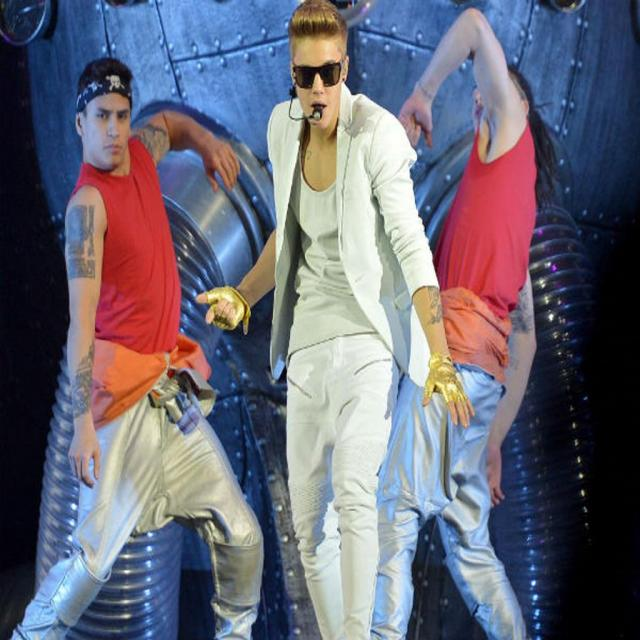nomask: (291, 38, 345, 138), (89, 86, 129, 172)
